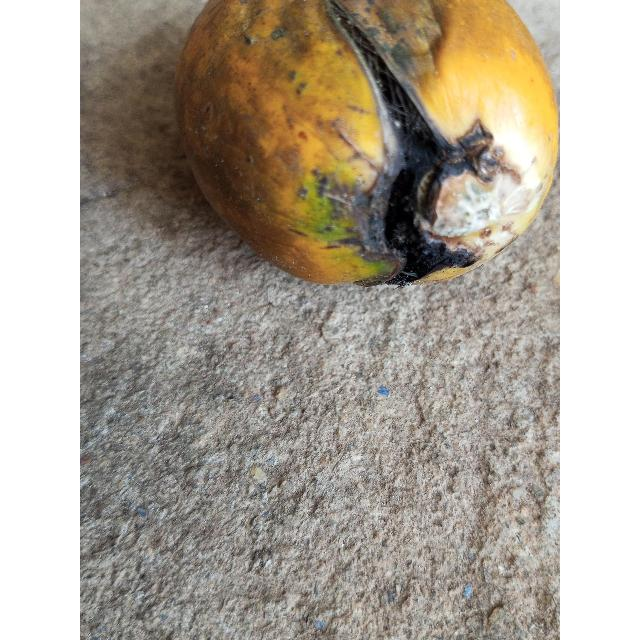damaged: (173, 0, 560, 289)
